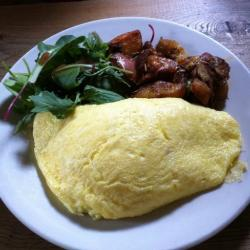omelette: (38, 102, 231, 197)
salad: (15, 42, 118, 106)
